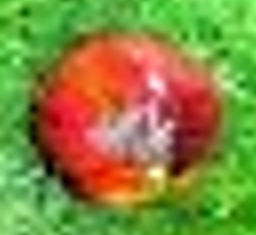pomegranate_B: (33, 31, 225, 209)
